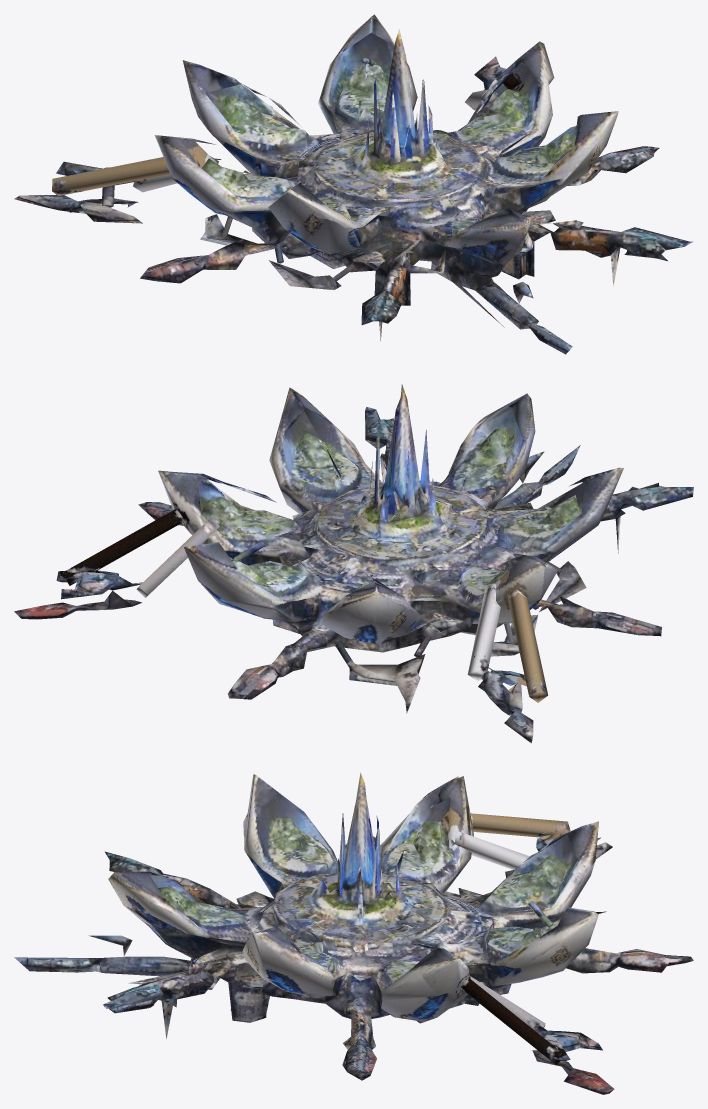
Rendered from st3d_aurelion_tradehub_lod2.glb.
The picture shows the model from 3 angles, top to bottom: view 1: azimuth 30°, elevation 25°; view 2: azimuth 150°, elevation 25°; view 3: azimuth 270°, elevation 25°; orthographic projection. The views are drawn at different scales.
Parts seen in each view (by area): view 1: HOMELANCER_Station3D_Aurelion-DiplomaticTradeHub_v1; view 2: HOMELANCER_Station3D_Aurelion-DiplomaticTradeHub_v1; view 3: HOMELANCER_Station3D_Aurelion-DiplomaticTradeHub_v1.
Boxes of the visible parts, bbox=[...] form: HOMELANCER_Station3D_Aurelion-DiplomaticTradeHub_v1: bbox=[14, 14, 693, 354]; HOMELANCER_Station3D_Aurelion-DiplomaticTradeHub_v1: bbox=[14, 384, 693, 743]; HOMELANCER_Station3D_Aurelion-DiplomaticTradeHub_v1: bbox=[14, 772, 693, 1094].
Size of the model in its own units: 0.8438 by 0.3397 by 0.9691.
1 material, 1 textured.
